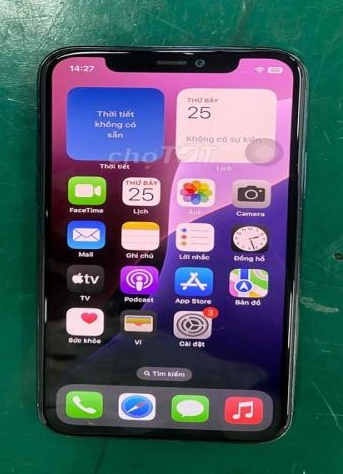scratch: (28, 369, 58, 432), (290, 195, 305, 252), (278, 402, 289, 430)
